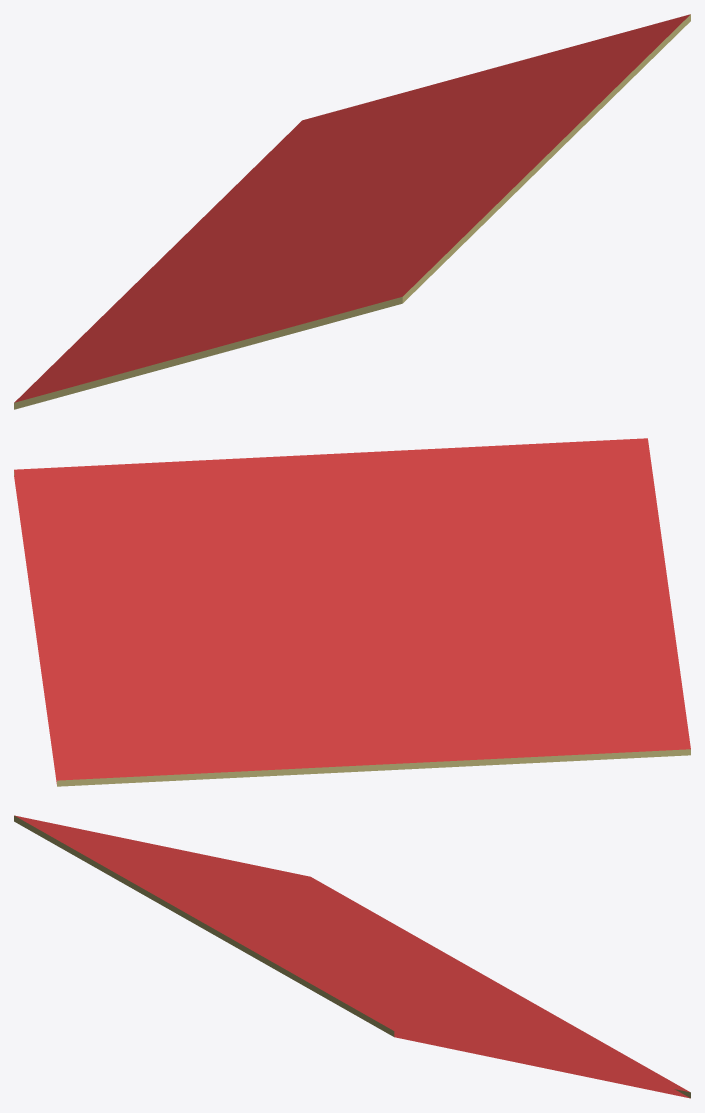
3 views of the same model, one above another, from view 1: azimuth 30°, elevation 25°; view 2: azimuth 150°, elevation 25°; view 3: azimuth 270°, elevation 25° (orthographic). The views are drawn at different scales.
Bounding box in the file's own units: 10.9 × 10.08 × 2.64.
